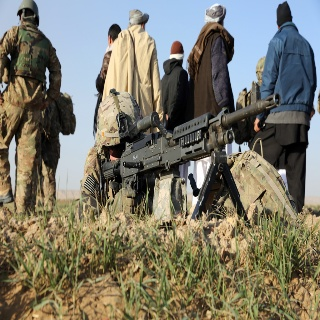rifle: (101, 80, 283, 229)
